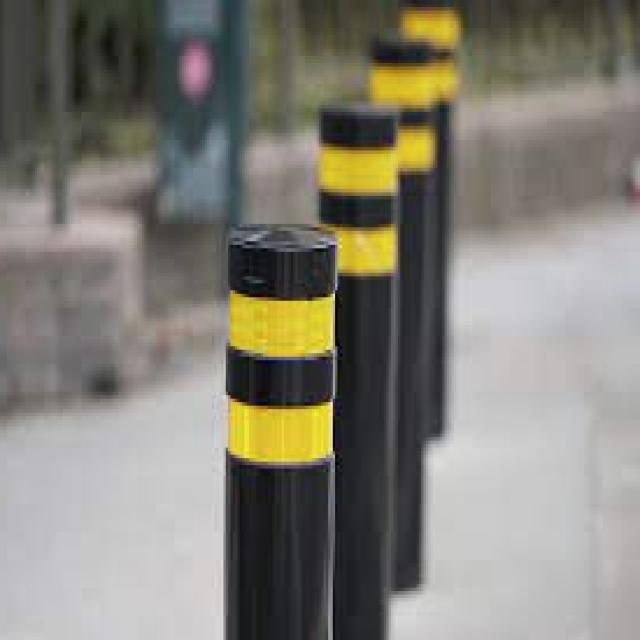bollard: (219, 220, 339, 640), (313, 92, 399, 640), (364, 32, 437, 606), (396, 3, 464, 439)
